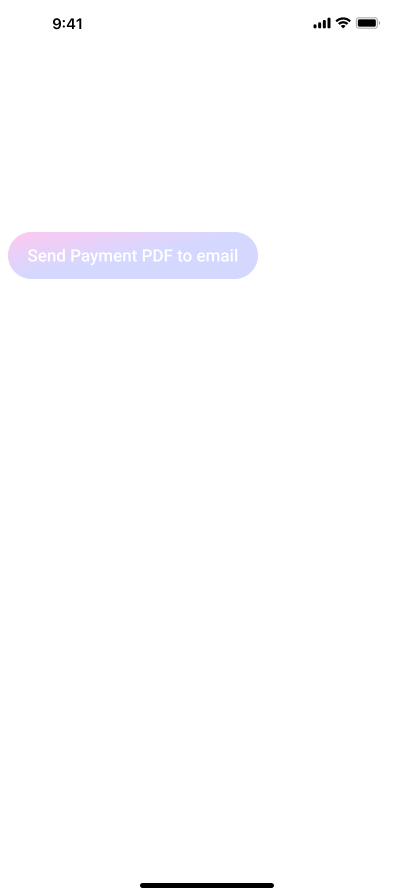Buttons: (8, 232, 258, 279)
Home Indicator: (0, 862, 414, 896)
Status Bar: (0, 0, 414, 44)
